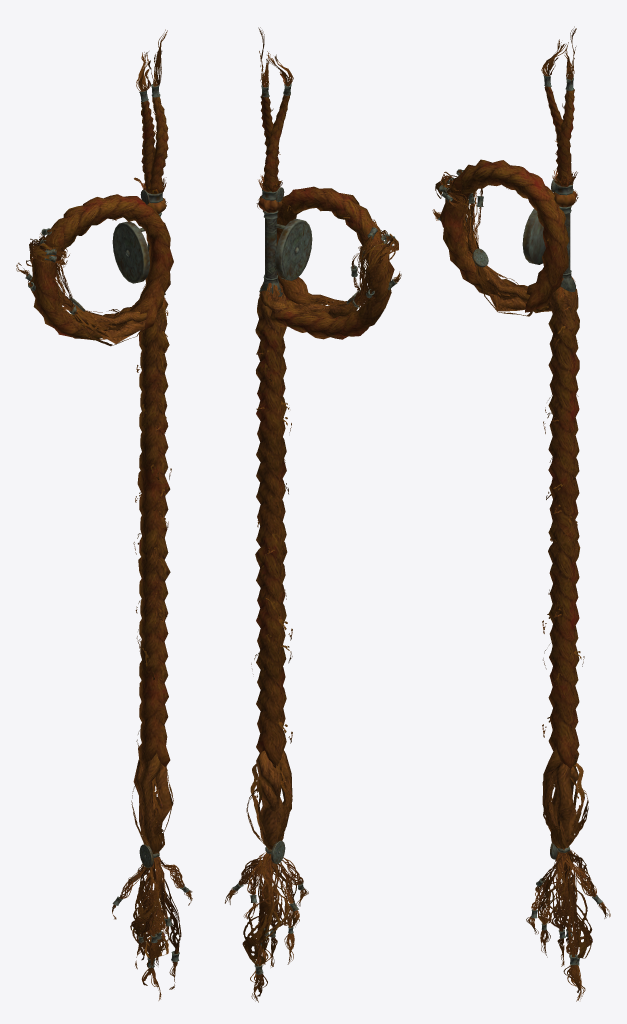
File: weapon-wp_a_1207.glb
3 views of the same model, side by side, from view 1: azimuth 30°, elevation 25°; view 2: azimuth 150°, elevation 25°; view 3: azimuth 330°, elevation 25° (orthographic).
Visible parts, largest first — view 1: wp_a_1207_mesh; view 2: wp_a_1207_mesh; view 3: wp_a_1207_mesh.
Part boxes in pixels (bbox=[...]): wp_a_1207_mesh: bbox=[16, 29, 192, 1000]; wp_a_1207_mesh: bbox=[225, 27, 401, 1002]; wp_a_1207_mesh: bbox=[432, 26, 610, 1001].
Bounding box in the file's own units: 0.489 × 2.69 × 0.2418.
Materials: 2 (2 with a texture image).
